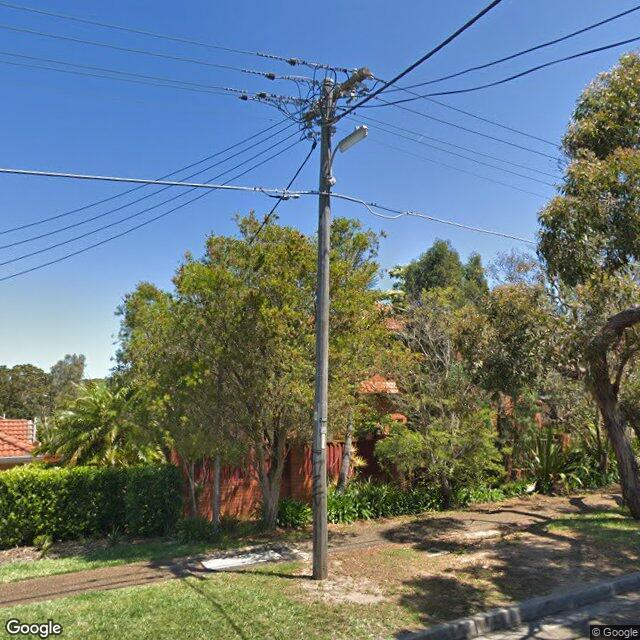crossarm: (304, 65, 372, 121)
streetlight: (328, 124, 370, 175)
timber-pole: (312, 78, 334, 580)
